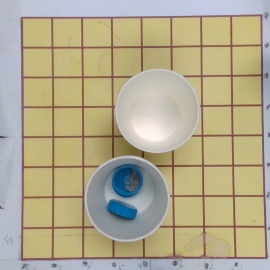cup: (115, 69, 201, 155)
cup_blue: (85, 156, 171, 243)
